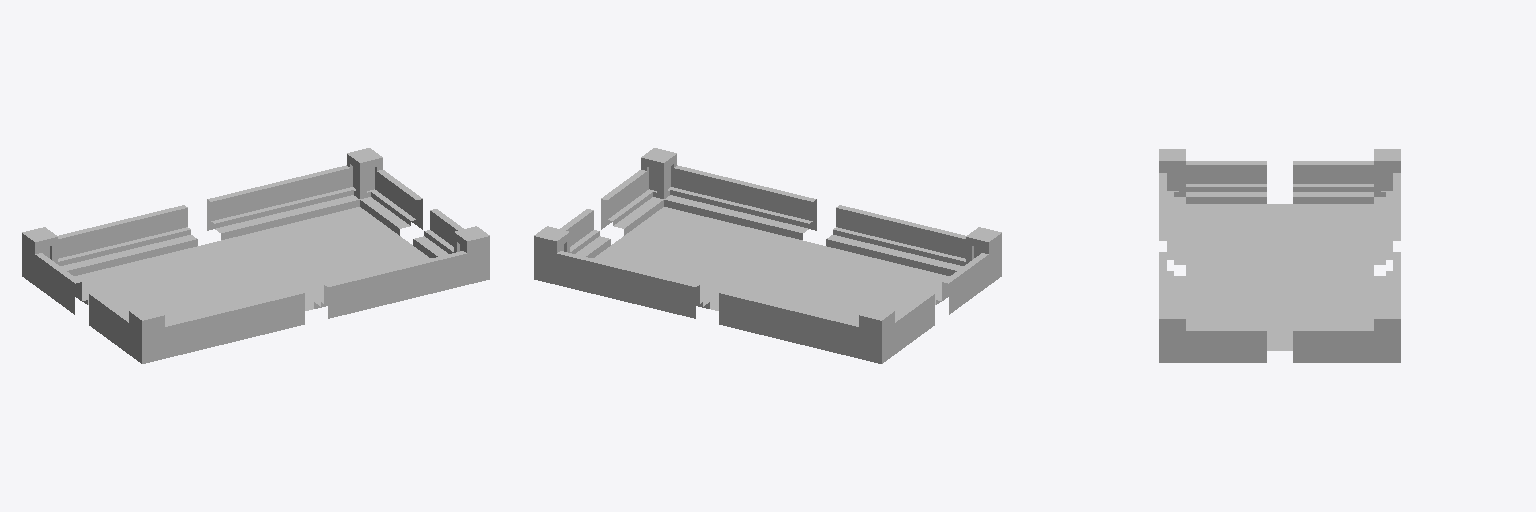
File: arena_base.obj
3 views of the same model, side by side, from view 1: azimuth 30°, elevation 25°; view 2: azimuth 150°, elevation 25°; view 3: azimuth 270°, elevation 25° (orthographic).
Parts seen in each view (by area): view 1: room_base, room_base_floor; view 2: room_base, room_base_floor; view 3: room_base_floor, room_base.
Boxes of the visible parts, x1=… form: room_base: x1=22, y1=148, x2=489, y2=363; room_base_floor: x1=74, y1=207, x2=430, y2=322; room_base: x1=534, y1=148, x2=1001, y2=363; room_base_floor: x1=593, y1=207, x2=949, y2=322; room_base_floor: x1=1186, y1=204, x2=1373, y2=350; room_base: x1=1159, y1=149, x2=1400, y2=362.
Bounding box in the file's own units: 15 × 1.79 × 9.